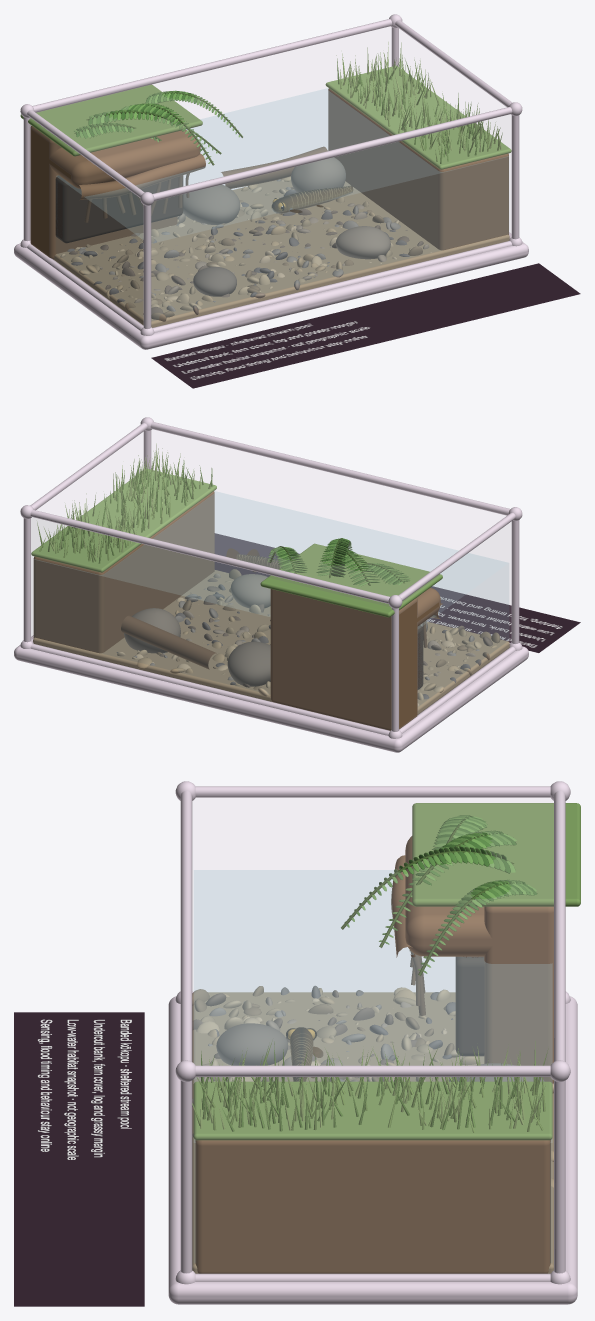
Rendered from kokopu.glb.
3 renders of one model, top to bottom at view 1: azimuth 30°, elevation 25°; view 2: azimuth 150°, elevation 25°; view 3: azimuth 270°, elevation 25°, orthographic. The views are drawn at different scales.
Parts seen in each view (by area): view 1: kokopu_authored_teaching_model, Scale_and_credit; view 2: kokopu_authored_teaching_model, Scale_and_credit; view 3: kokopu_authored_teaching_model, Scale_and_credit.
Boxes of the visible parts, <box> form: kokopu_authored_teaching_model: <box>14,14,528,349</box>; Scale_and_credit: <box>151,263,580,388</box>; kokopu_authored_teaching_model: <box>14,417,528,752</box>; Scale_and_credit: <box>214,533,580,652</box>; kokopu_authored_teaching_model: <box>168,781,580,1304</box>; Scale_and_credit: <box>14,1012,144,1306</box>.
Bounding box in the file's own units: 0.582 × 0.2229 × 0.4738.
1463 materials, 3 textured.
